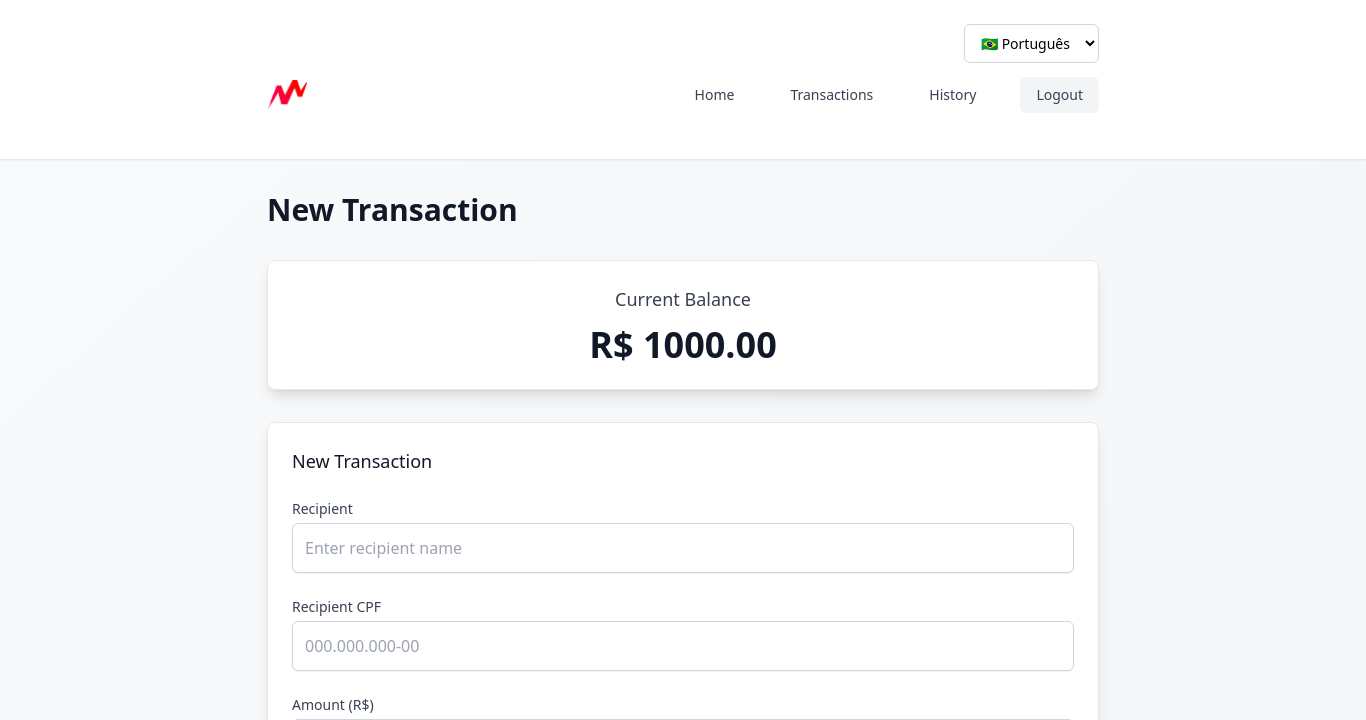
Test: Transactions Component › should complete full PIX transaction workflow successfully
This screenshot has width=1366, height=720.
Note: Fill out the PIX transaction form
Type "Maria Santos" into the field labelled "Recipient".
click(683, 548); type("Maria Santos")  # box [292,523,1074,573]
Type "98765432100" into the field labelled "Recipient CPF".
click(683, 646); type("98765432100")  # box [292,621,1074,671]
(page scrolled)
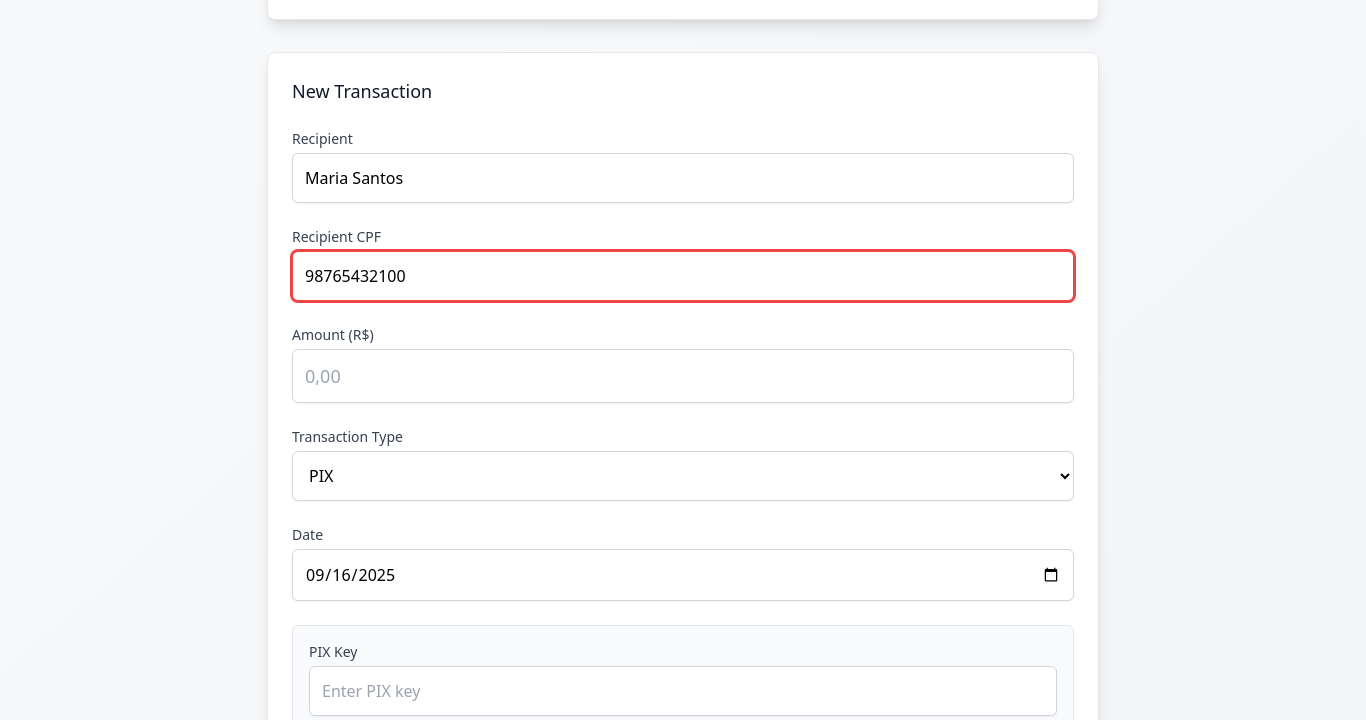
Type "10050" into the field labelled "Amount (R$)".
click(683, 376); type("10050")  # box [292,349,1074,403]
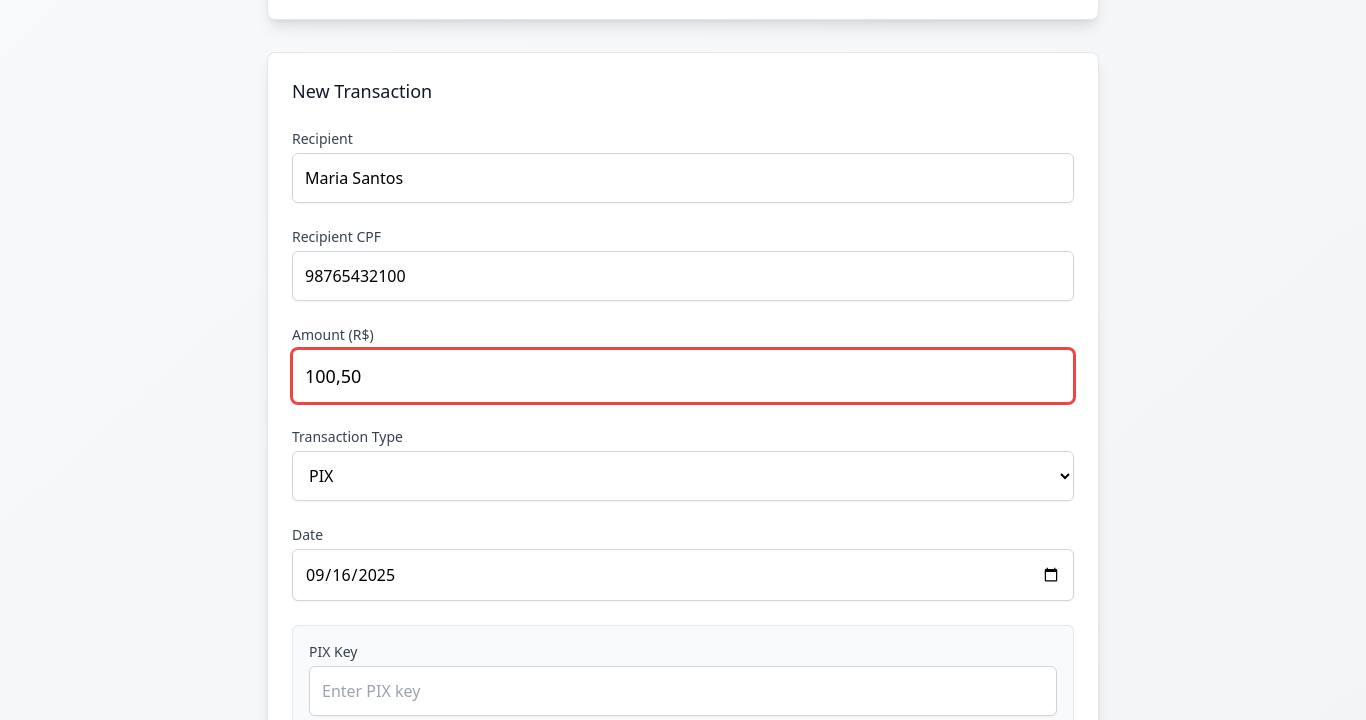
Type "maria@email.com" into the field labelled "PIX Key".
click(683, 691); type("maria@email.com")  # box [309,666,1057,716]
(page scrolled)
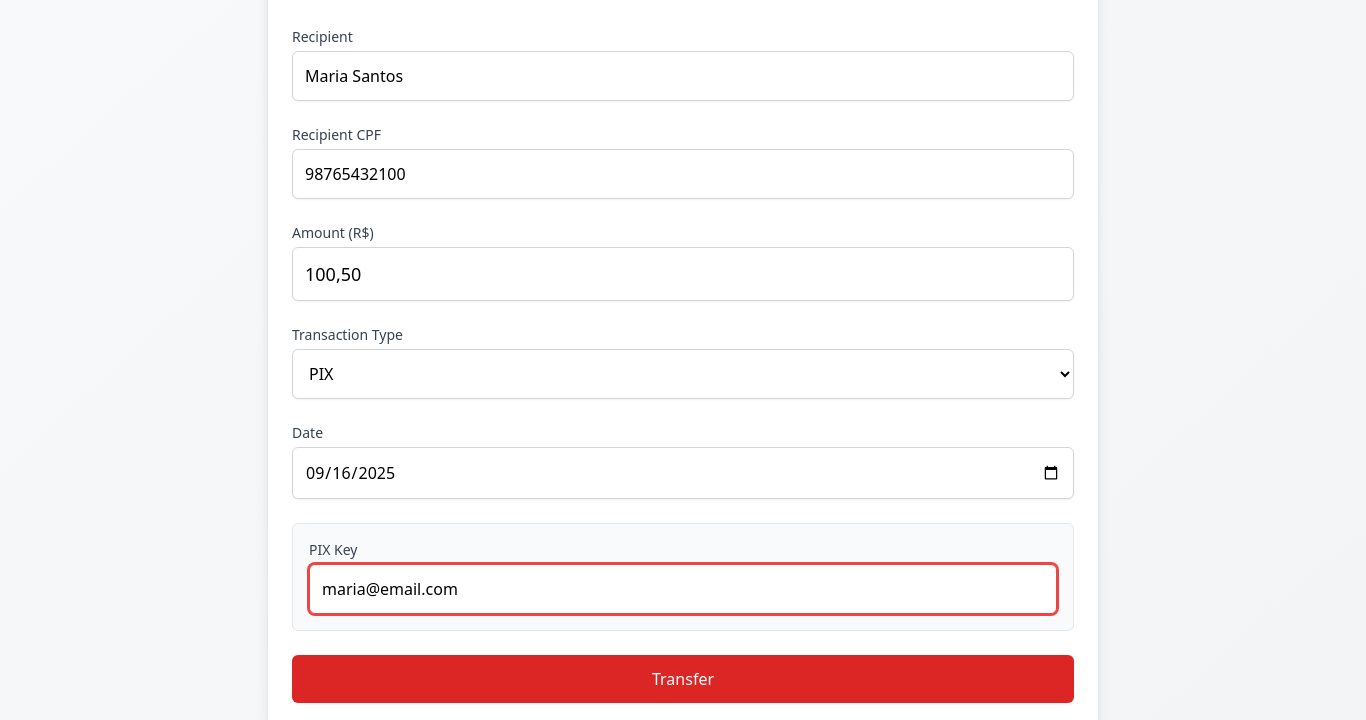
Note: Submit the form
Click the button "Transfer".
click(683, 679)  # box [292,655,1074,703]
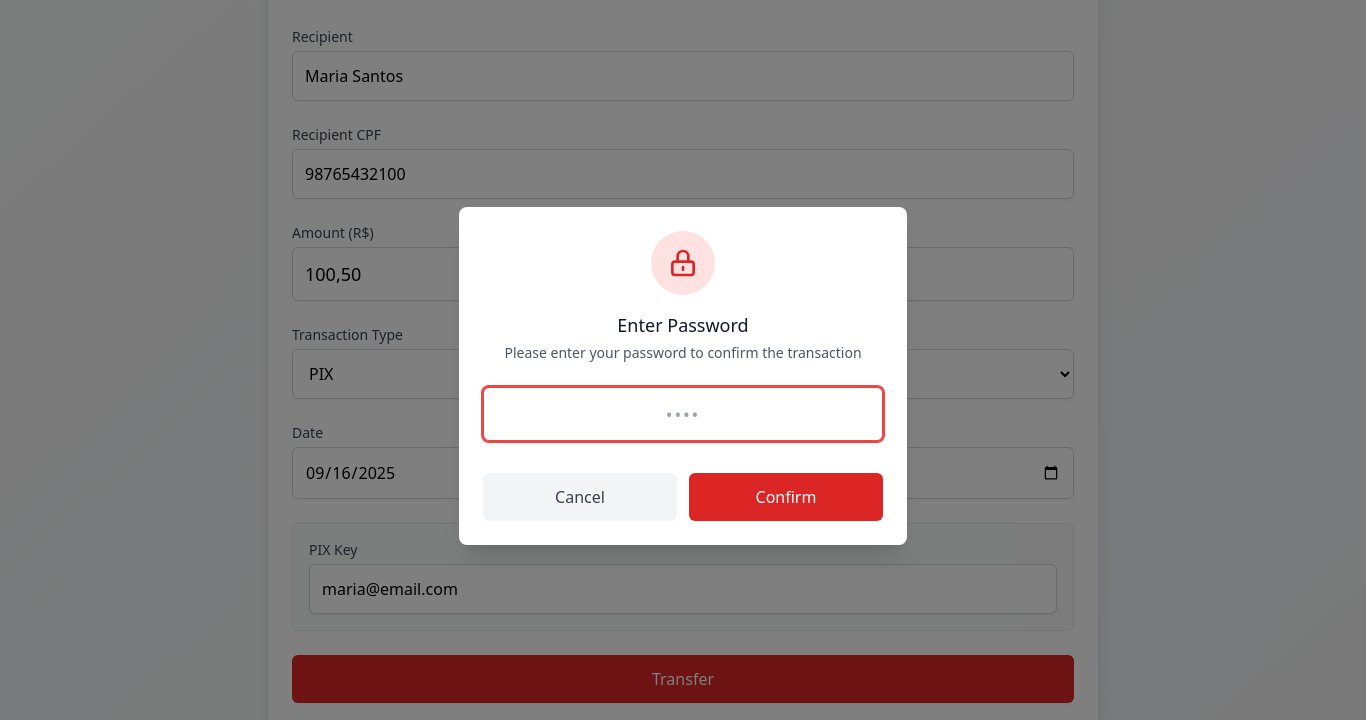
Now the heading "Enter Password" is shown, box [617,313,749,337]
Note: Enter correct password
Type "1234" into the password field with placeholder "••••".
click(683, 414); type("1234")  # box [483,387,883,441]
Click the button "Confirm".
click(786, 497)  # box [689,473,883,521]
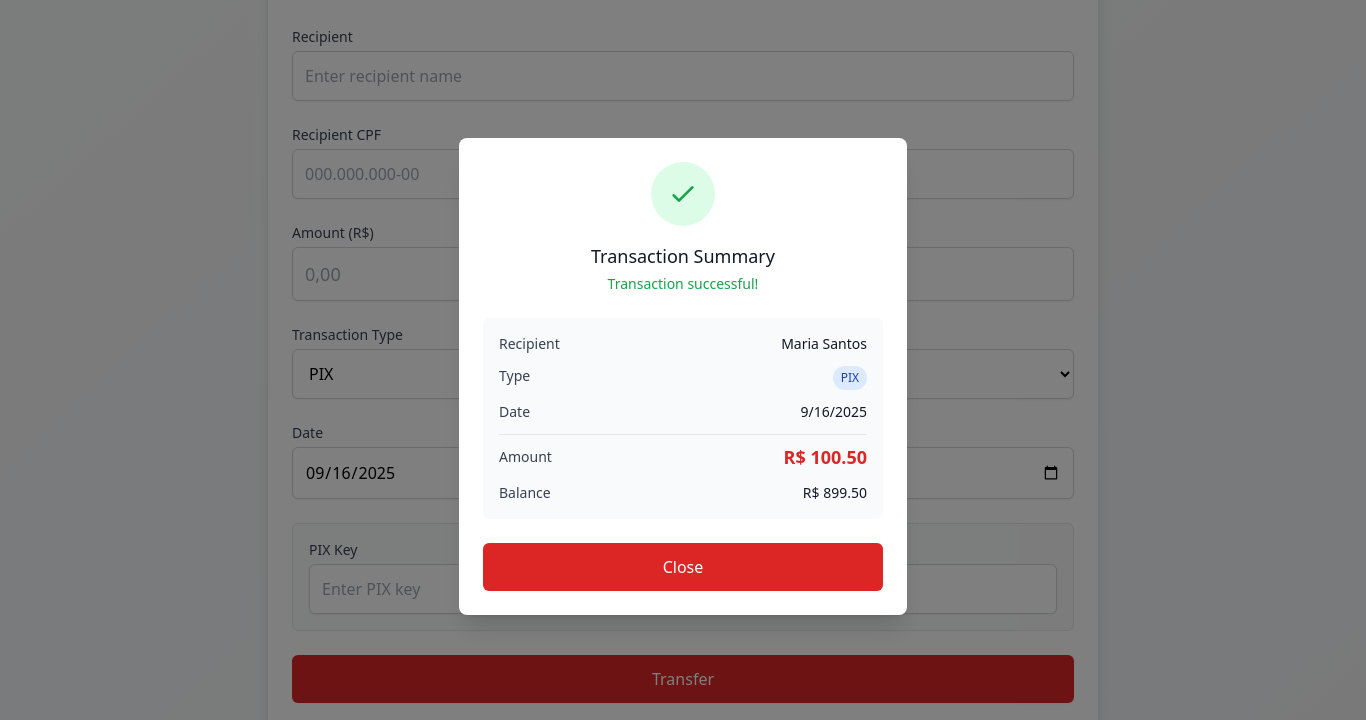
Now the heading "Transaction Summary" is shown, box [591,244,775,268]
Now the text "Maria Santos" is shown, box [781,334,867,354]
Now the text "R$ 100.50" is shown, box [784,442,867,470]
Note: Close summary modal
Click the button "Close".
click(683, 566)  # box [483,542,883,590]
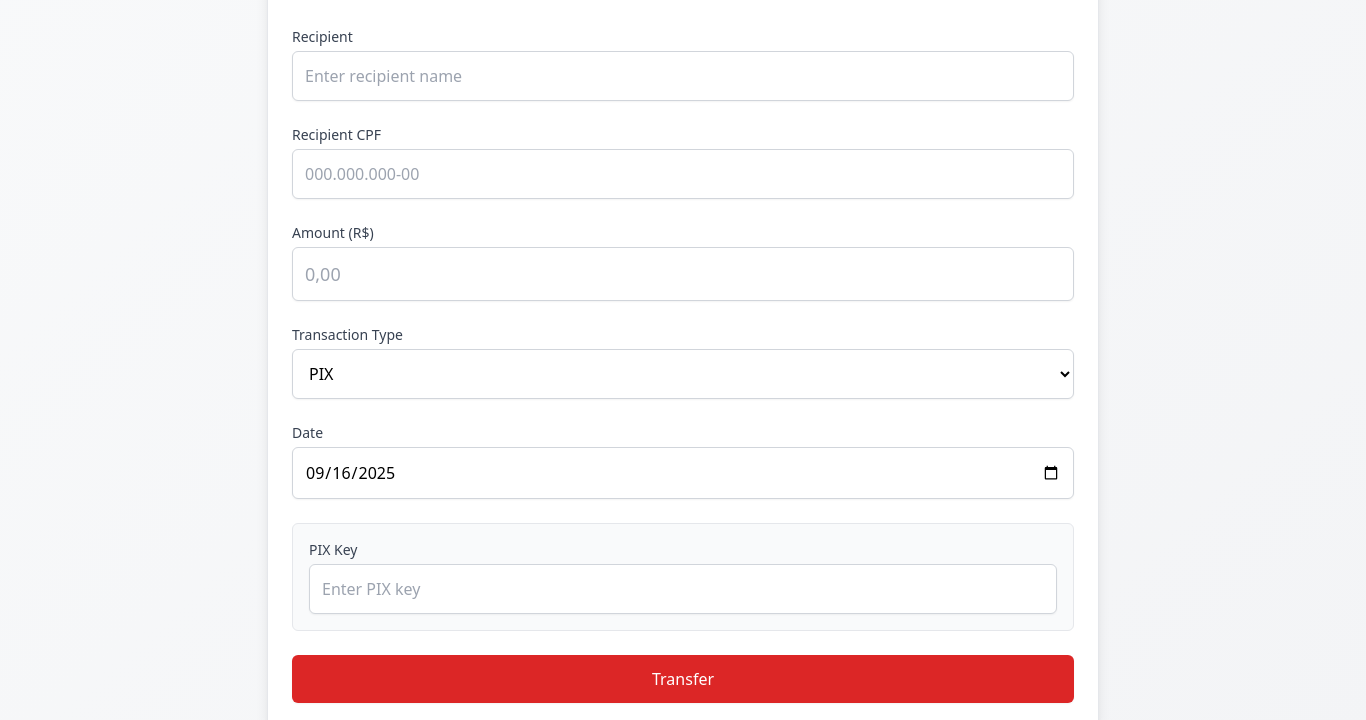
Now the heading "Transaction Summary" is gone
